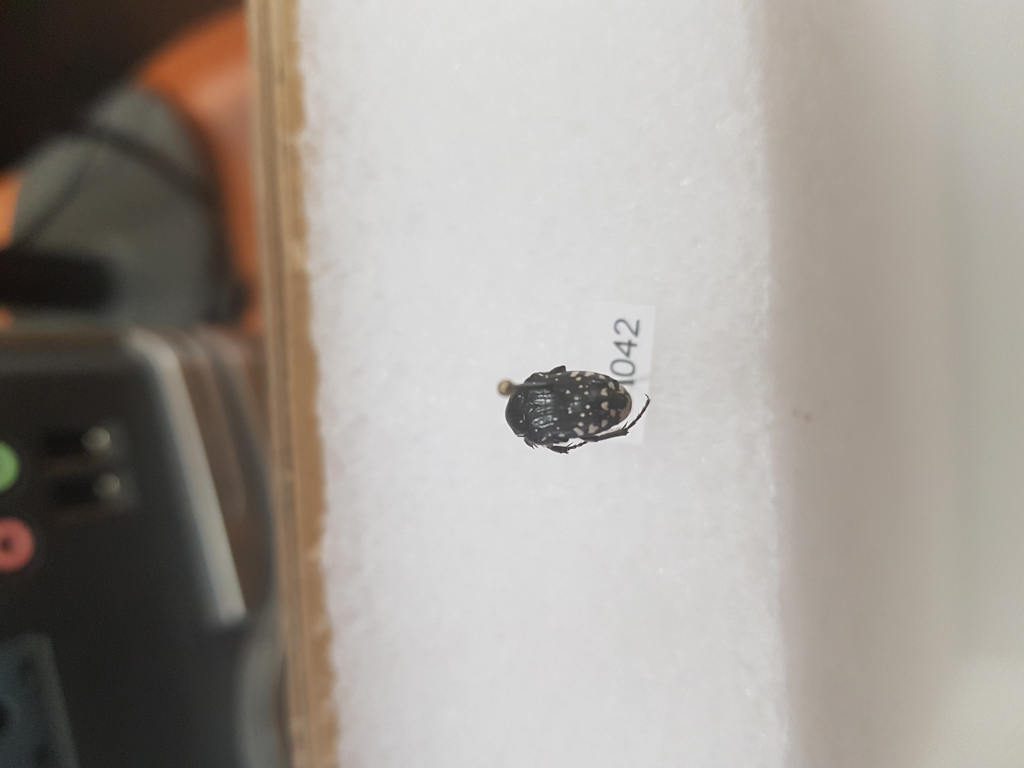Oxythyrea_cinctella: (495, 361, 658, 452)
